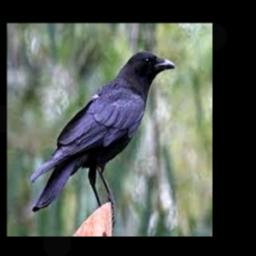Crow: (28, 50, 174, 227)
